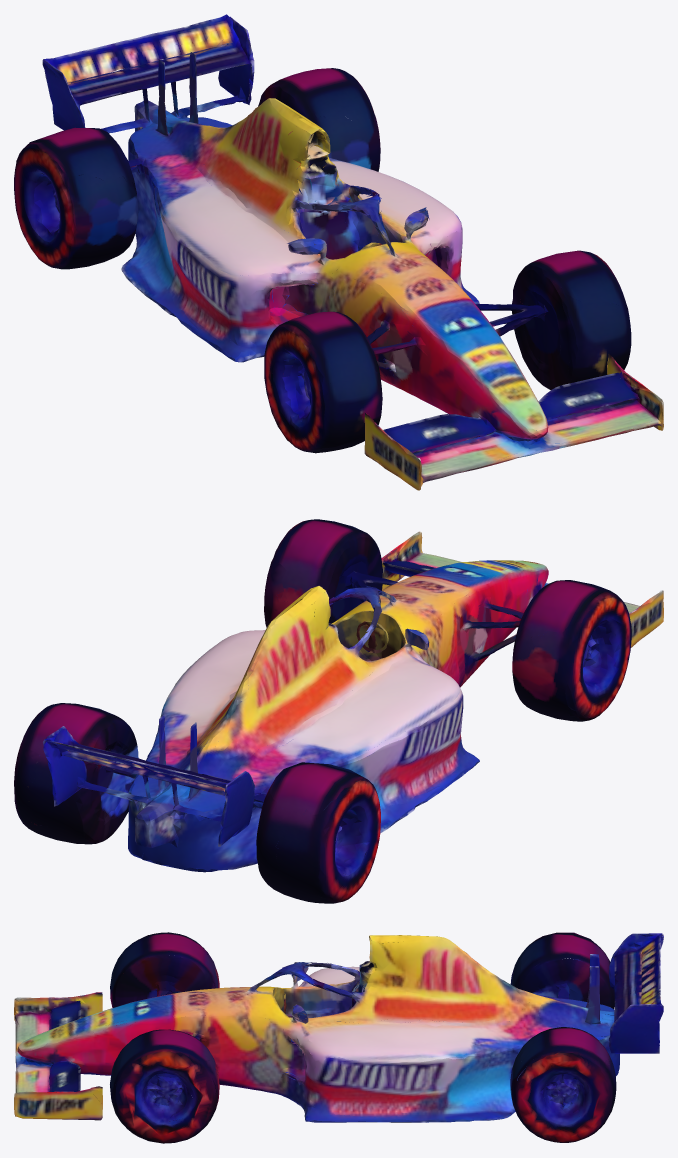
The model's file is indycar2.glb.
3 views of the same model, one above another, from view 1: azimuth 30°, elevation 25°; view 2: azimuth 150°, elevation 25°; view 3: azimuth 270°, elevation 25° (orthographic). The views are drawn at different scales.
Parts seen in each view (by area): view 1: body, panel_bumper_f, panel_trunk, wheel_front_L, wheel_rear_L, wheel_front_R, panel_bumper_r, panel_roof, panel_hood, wheel_rear_R, panel_door_L; view 2: body, panel_trunk, panel_bumper_f, wheel_front_L, wheel_rear_L, wheel_rear_R, panel_bumper_r, panel_hood, wheel_front_R, panel_roof; view 3: body, panel_bumper_f, panel_trunk, wheel_rear_R, wheel_front_R, wheel_front_L, panel_bumper_r, wheel_rear_L, panel_roof, panel_hood, panel_door_R.
Boxes of the visible parts, bbox=[...] form: body: bbox=[128, 100, 629, 472]; panel_bumper_f: bbox=[282, 250, 657, 479]; panel_trunk: bbox=[27, 14, 375, 246]; wheel_front_L: bbox=[205, 272, 480, 490]; wheel_rear_L: bbox=[14, 138, 213, 347]; wheel_front_R: bbox=[425, 231, 663, 440]; panel_bumper_r: bbox=[16, 79, 378, 188]; panel_roof: bbox=[269, 98, 429, 254]; panel_hood: bbox=[277, 236, 563, 373]; wheel_rear_R: bbox=[258, 83, 478, 301]; panel_door_L: bbox=[262, 246, 334, 324]; body: bbox=[128, 560, 545, 872]; panel_trunk: bbox=[25, 591, 419, 846]; panel_bumper_f: bbox=[267, 519, 639, 686]; wheel_front_L: bbox=[434, 586, 663, 781]; wheel_rear_L: bbox=[256, 778, 459, 903]; wheel_rear_R: bbox=[14, 721, 138, 844]; panel_bumper_r: bbox=[31, 731, 367, 847]; panel_hood: bbox=[273, 533, 615, 637]; wheel_front_R: bbox=[264, 531, 429, 627]; panel_roof: bbox=[272, 586, 429, 660]; body: bbox=[15, 966, 619, 1122]; panel_bumper_f: bbox=[15, 966, 305, 1142]; panel_trunk: bbox=[346, 933, 663, 1072]; wheel_rear_R: bbox=[305, 1038, 616, 1142]; wheel_front_R: bbox=[14, 1044, 342, 1143]; wheel_front_L: bbox=[14, 947, 302, 1042]; panel_bumper_r: bbox=[504, 932, 659, 1082]; wheel_rear_L: bbox=[510, 944, 614, 1008]; panel_roof: bbox=[256, 935, 441, 1021]; panel_hood: bbox=[117, 932, 261, 1064]; panel_door_R: bbox=[281, 1016, 311, 1083].
Size of the model in its own units: 1.77 by 1.03 by 4.
Materials: 1 (1 with a texture image).
